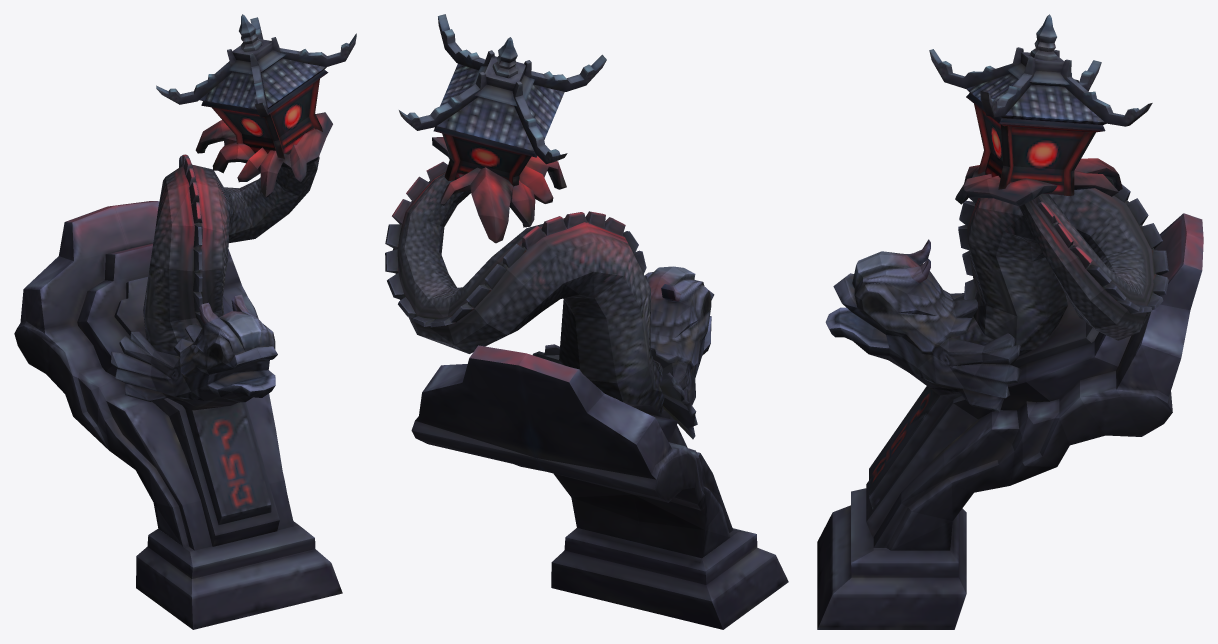
The model's file is pve_ljjl06.FBX.
3 renders of one model, left to right at view 1: azimuth 30°, elevation 25°; view 2: azimuth 150°, elevation 25°; view 3: azimuth 270°, elevation 25°, orthographic. The views are drawn at different scales.
Visible parts, largest first — view 1: pve_ljjl06; view 2: pve_ljjl06; view 3: pve_ljjl06.
Boxes of the visible parts, x1,y1,x2,y2 form: pve_ljjl06: (14, 14, 356, 629); pve_ljjl06: (385, 14, 788, 629); pve_ljjl06: (817, 14, 1203, 629).
Size of the model in its own units: 393 by 720 by 411.
Materials: 1 (1 with a texture image).
